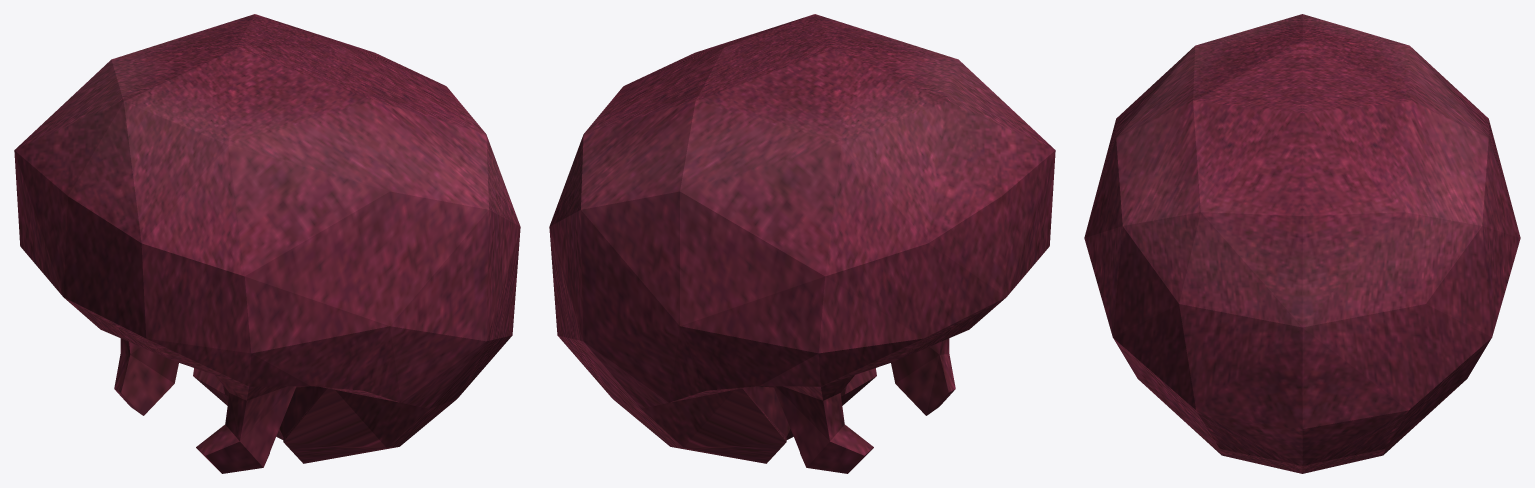
Rendered from Monkey_afro.obj.
3 renders of one model, left to right at view 1: azimuth 30°, elevation 25°; view 2: azimuth 150°, elevation 25°; view 3: azimuth 270°, elevation 25°, orthographic. The views are drawn at different scales.
Parts seen in each view (by area): view 1: Monkey_afro_tri; view 2: Monkey_afro_tri; view 3: Monkey_afro_tri.
Part boxes in pixels (x1,y1,x2,y2): Monkey_afro_tri: [14, 14, 520, 473]; Monkey_afro_tri: [549, 14, 1055, 473]; Monkey_afro_tri: [1084, 14, 1520, 473].
Size of the model in its own units: 0.4289 by 0.3942 by 0.4137.
Materials: 1 (1 with a texture image).
